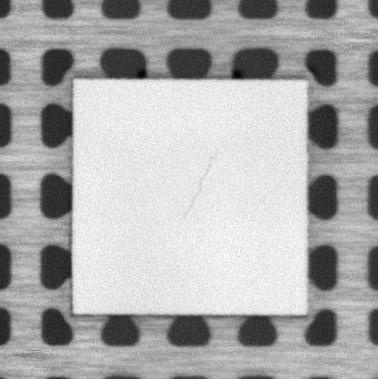DIE_CRACK: (183, 156, 215, 219)
